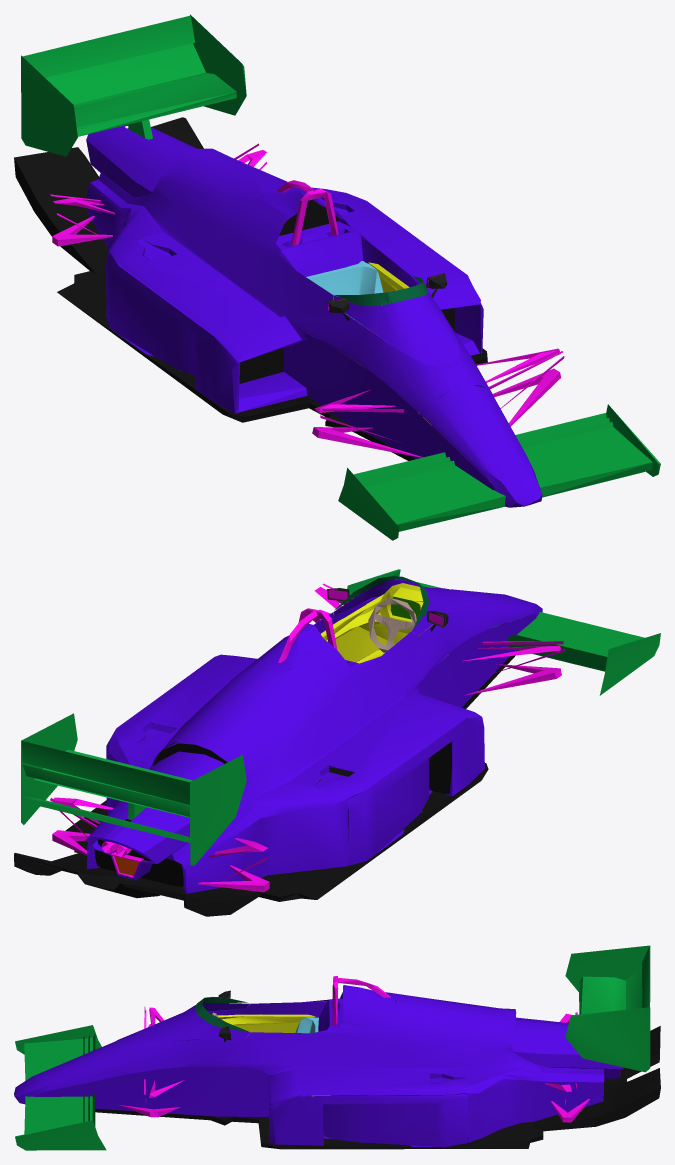
The picture shows the model from 3 angles, top to bottom: view 1: azimuth 30°, elevation 25°; view 2: azimuth 150°, elevation 25°; view 3: azimuth 270°, elevation 25°; orthographic projection. The views are drawn at different scales.
Visible parts, largest first — view 1: F.1; view 2: F.1; view 3: F.1.
Part boxes in pixels (box(x1,y1,x2,y2)): F.1: box(14, 14, 660, 540); F.1: box(14, 569, 660, 916); F.1: box(14, 945, 660, 1150).
Bounding box in the file's own units: 351 × 216 × 1002.
